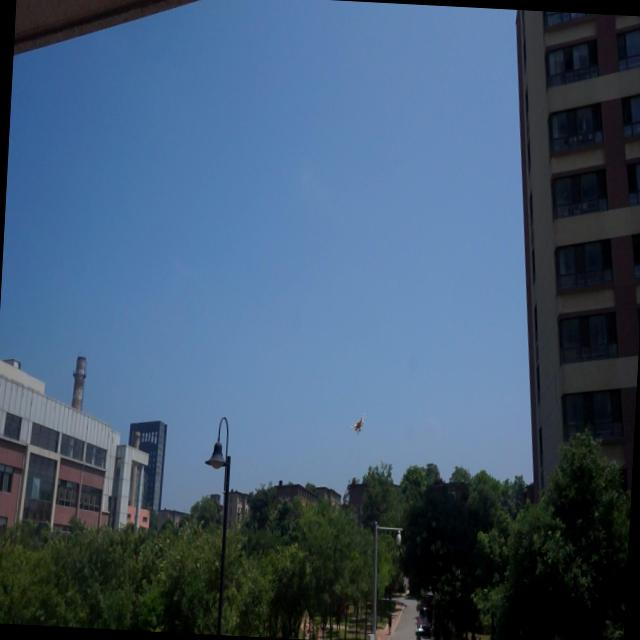drone: (350, 414, 368, 435)
